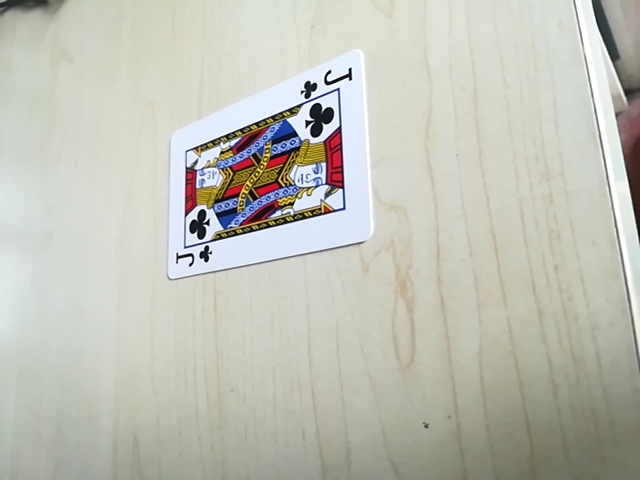mh j: (299, 61, 355, 99), (171, 241, 218, 275)
